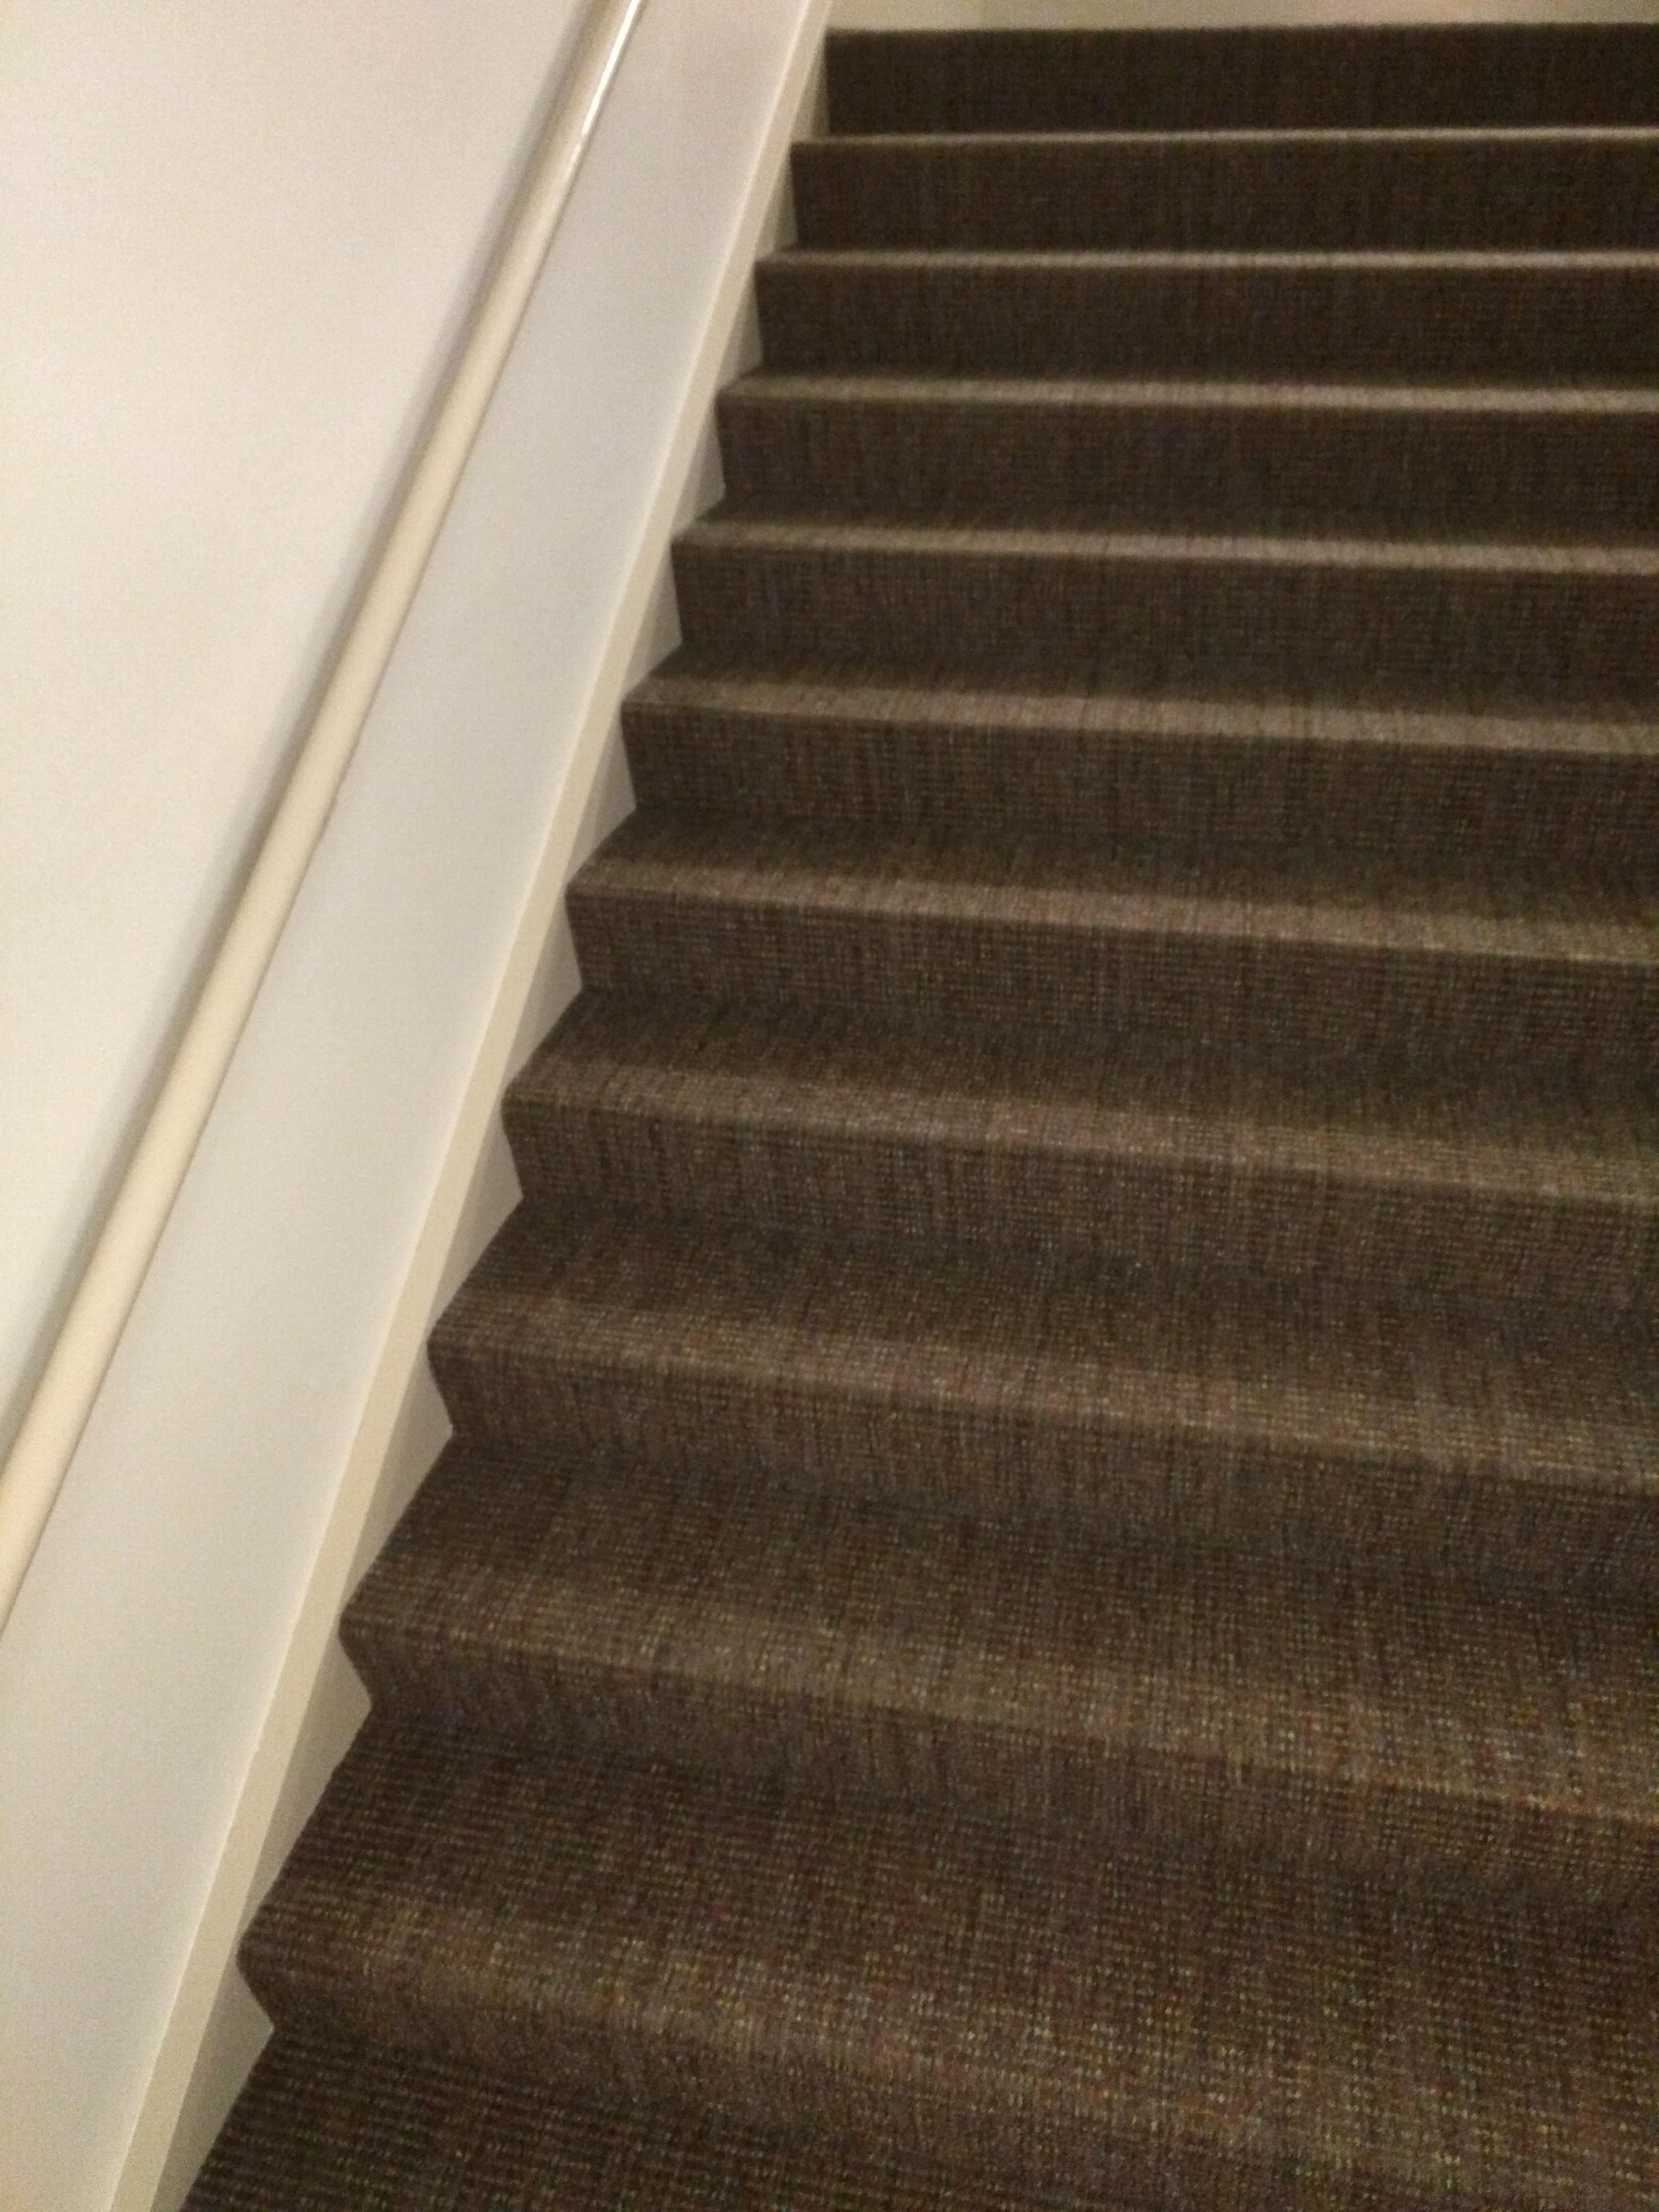stairs_up: (59, 23, 1654, 2212)
